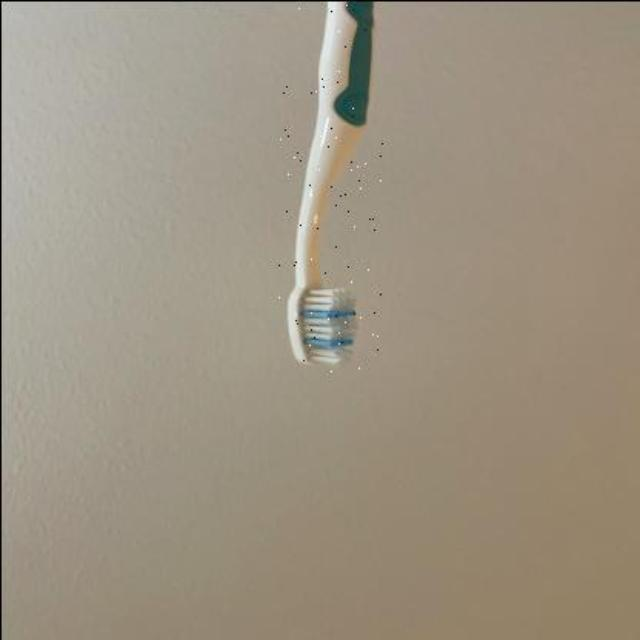toothbrush: (277, 0, 381, 370)
